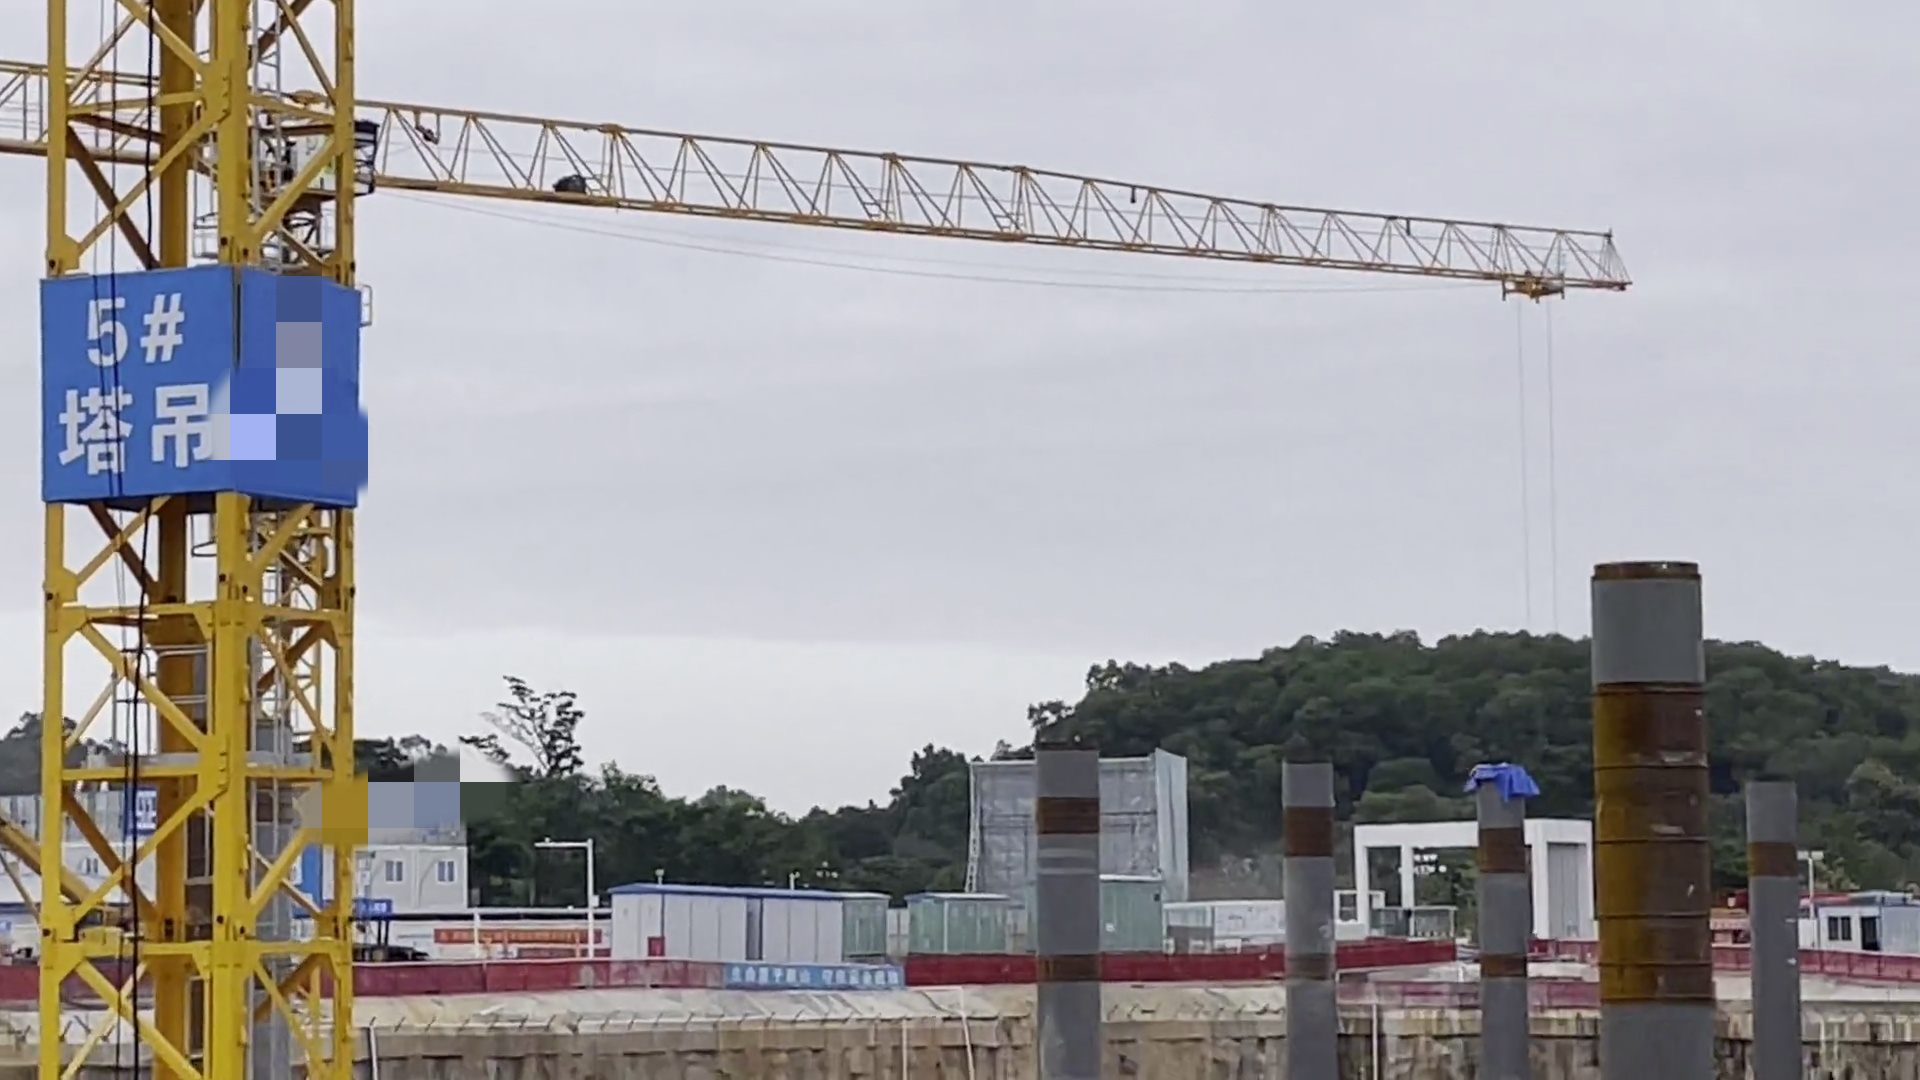fence: (343, 927, 1448, 1009), (1796, 939, 1920, 994), (1532, 927, 1611, 975), (1710, 928, 1756, 982)
hook: (51, 282, 357, 492), (731, 945, 913, 1000), (429, 916, 616, 957)
